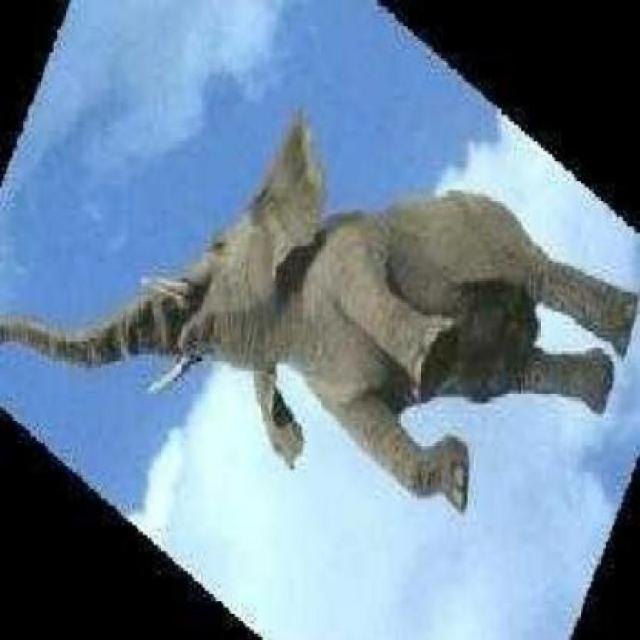Elephant: (0, 104, 638, 547)
